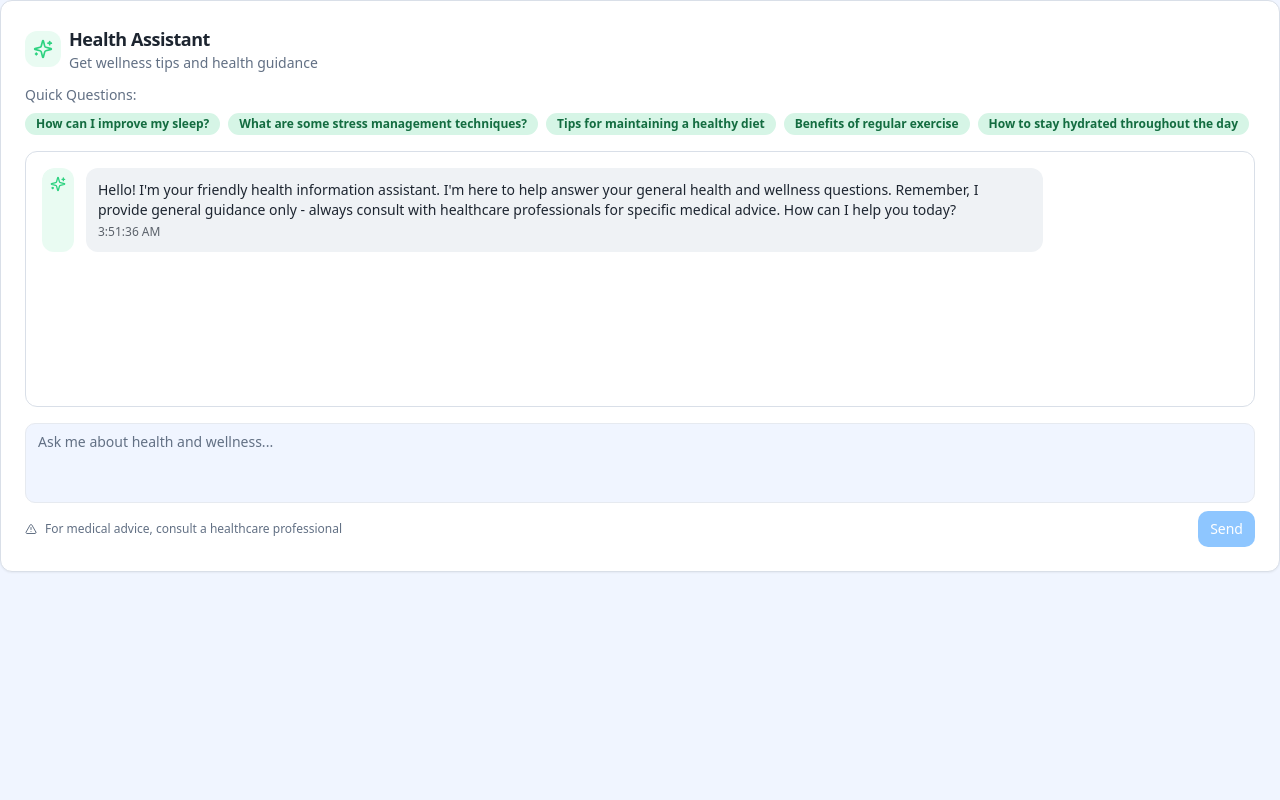
HealthAssistant › clicking quick question fills the input
Click the text "How can I improve my sleep?" at (123, 124), box [25,113,220,135]
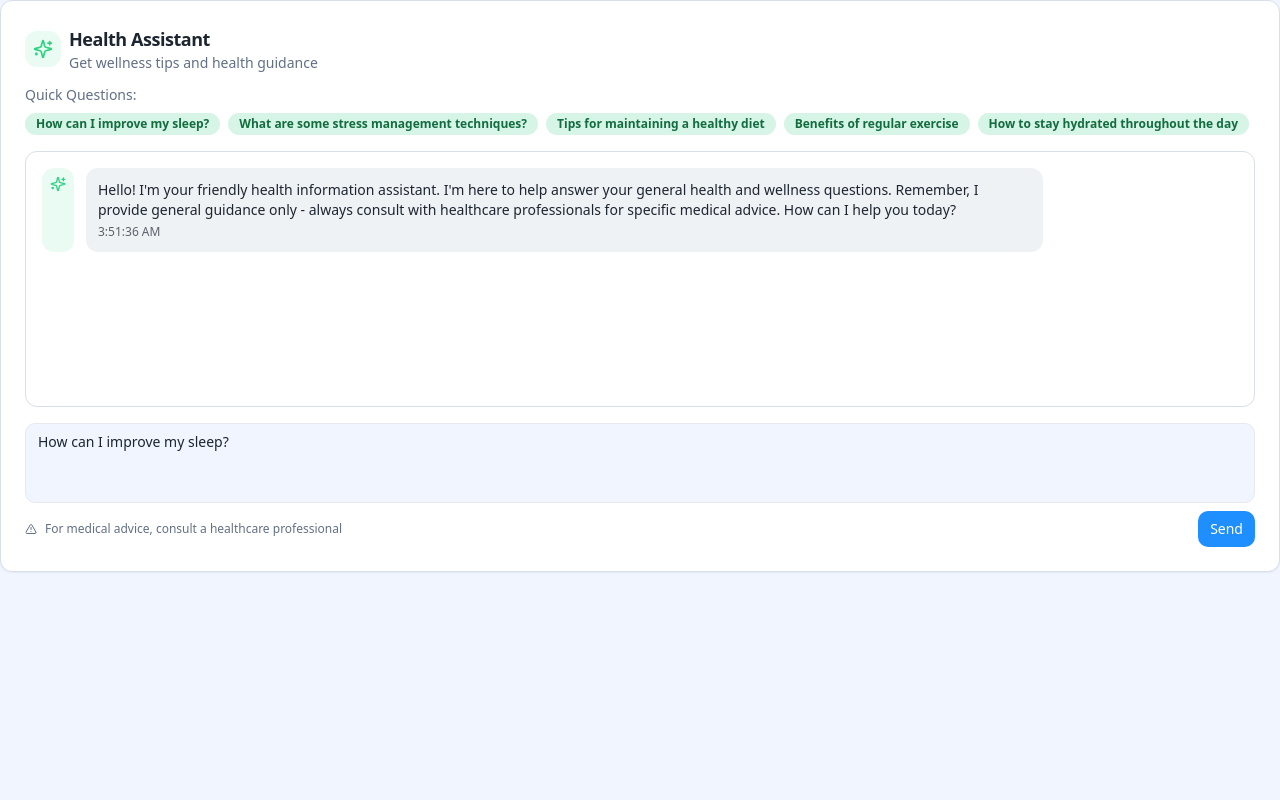
Result: the text box with placeholder "Ask me about health and wellness..." holds "How can I improve my sleep?" at [25,423,1255,503]
